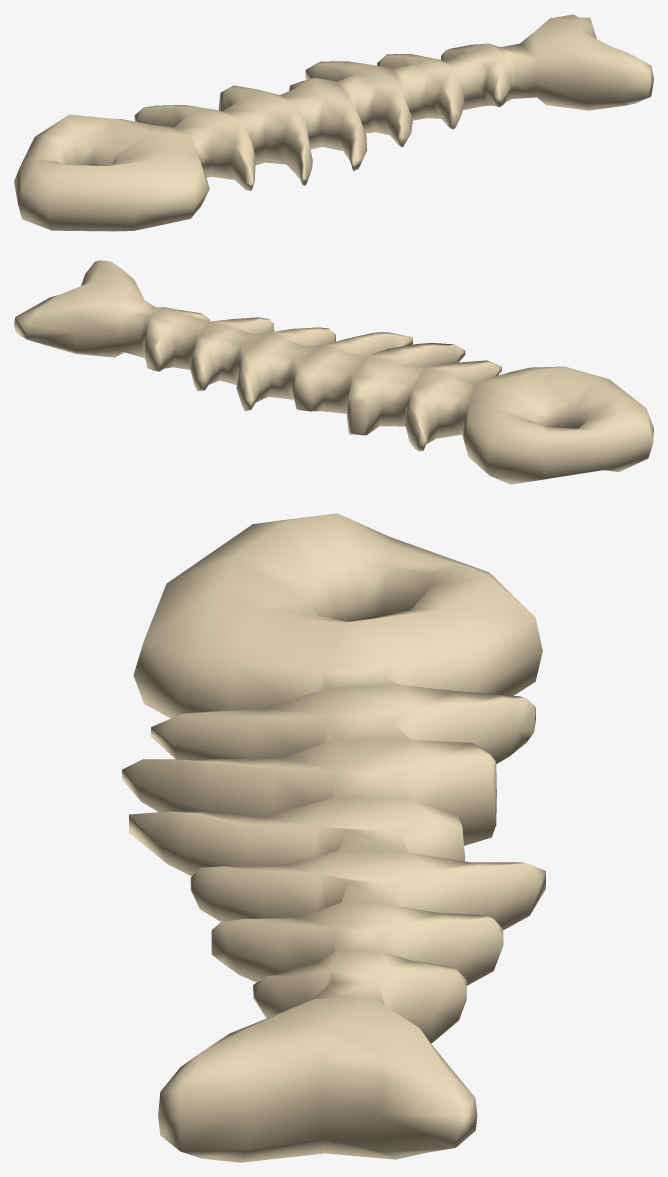
The model's file is FISH_lp.fbx.
3 renders of one model, top to bottom at view 1: azimuth 30°, elevation 25°; view 2: azimuth 150°, elevation 25°; view 3: azimuth 270°, elevation 25°, orthographic. The views are drawn at different scales.
Visible parts, largest first — view 1: Plane.001; view 2: Plane.001; view 3: Plane.001.
Boxes of the visible parts, x1,y1,x2,y2 form: Plane.001: (14, 14, 653, 231); Plane.001: (14, 260, 653, 484); Plane.001: (122, 513, 545, 1162).
Size of the model in its own units: 310 by 32.65 by 94.84.
